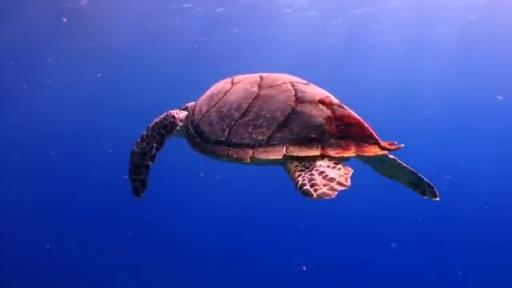Fish: (129, 73, 439, 199)
